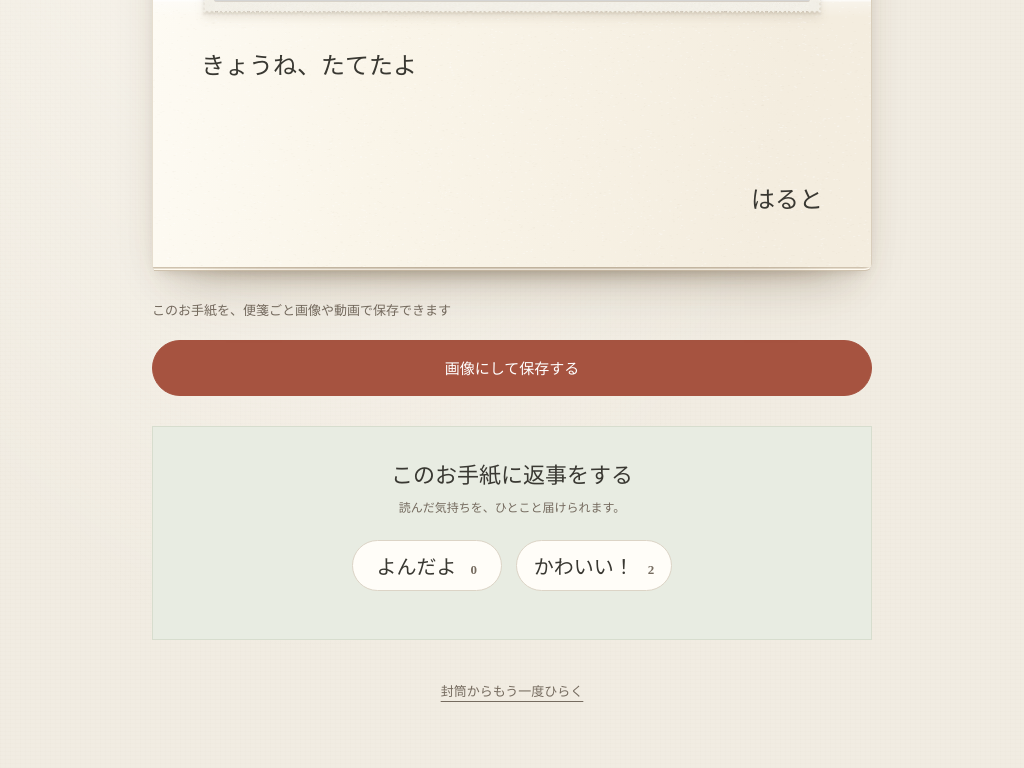
Test: LetterPage › shows not found when addStamp returns not_found
(page scrolled)
Click the button "よんだよ0": coordinates (427, 566) top-left (352, 540), bottom-right (502, 591)
(page scrolled)
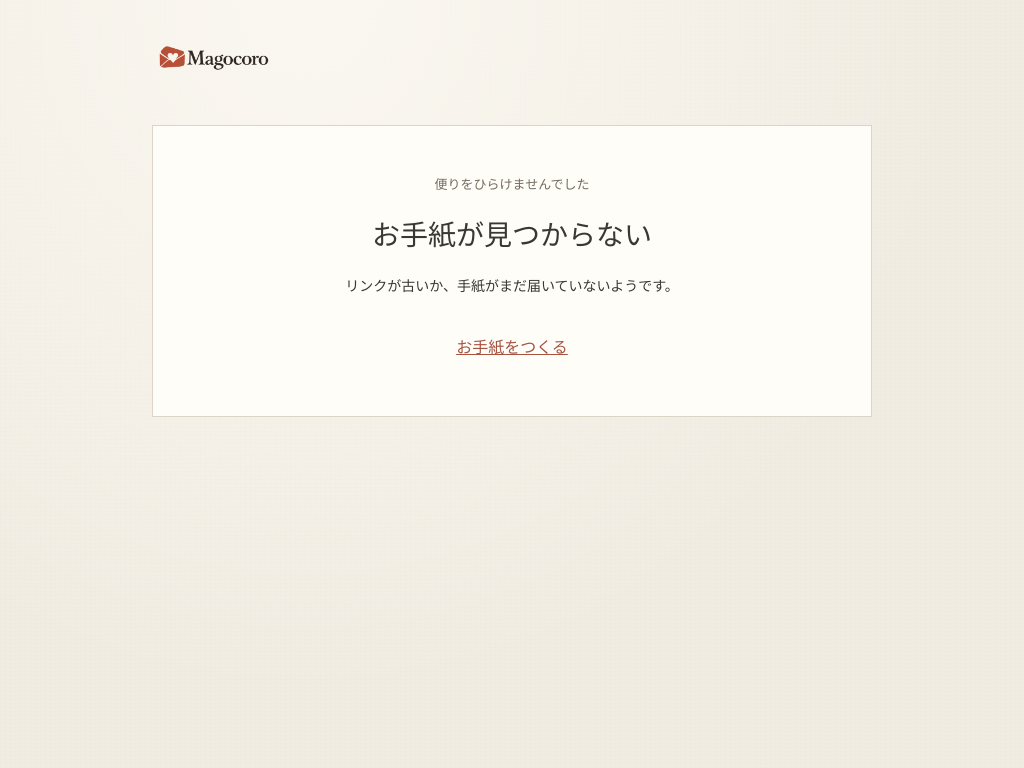
expect the heading "お手紙が見つからない" is shown: met, box top-left (372, 220), bottom-right (652, 251)
expect the text "きょうね、たてたよ" is gone: met
